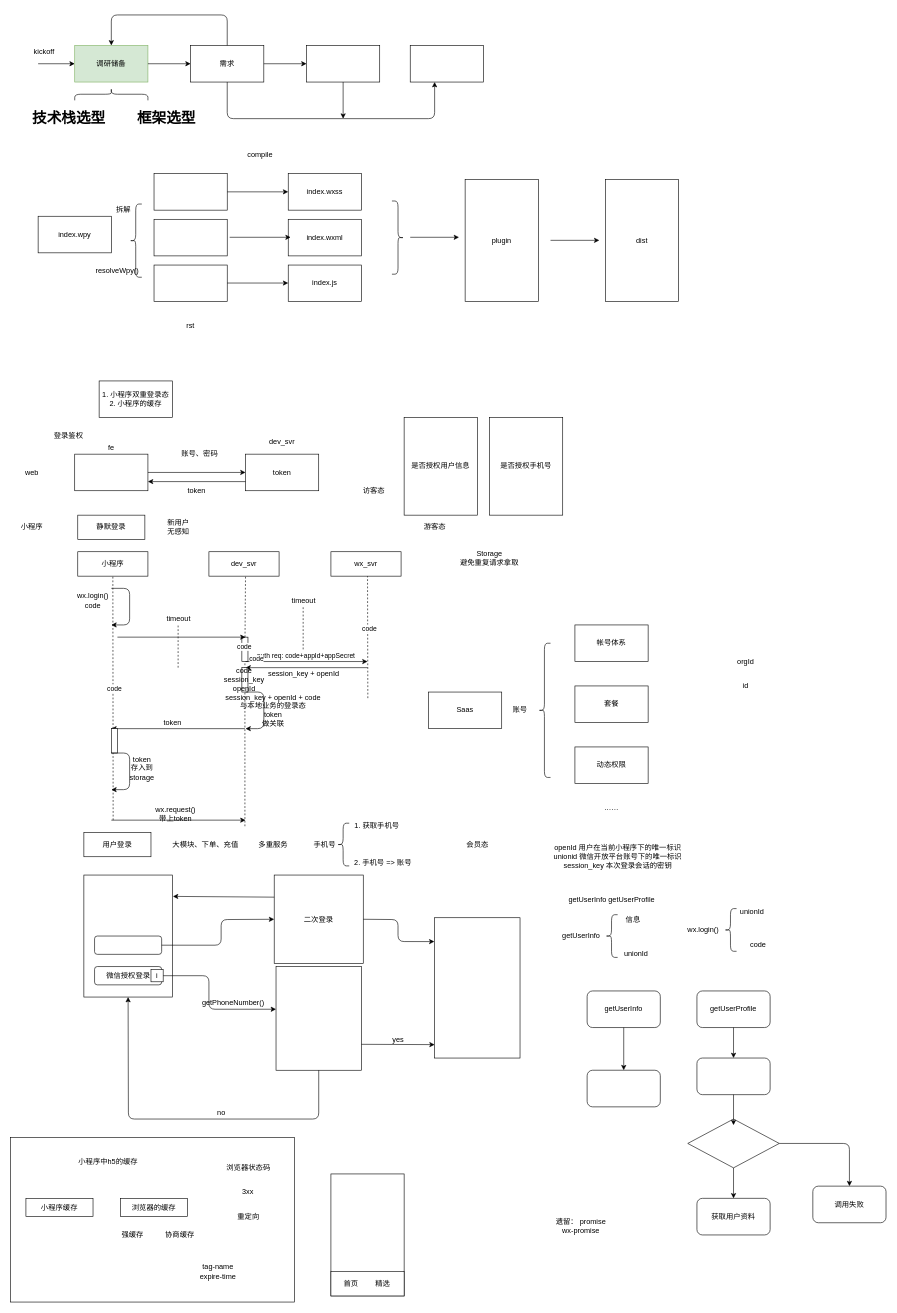
Some shapes in this 897 by 1313 pixel diagram are drawn without their labels. The centre of each missing label's shape, as x and y in pixels:
1. 匿名头像昵称 2. default的性别地区 3.加密后的身份标识: (x=623, y=1088)
script: (x=190, y=283)
style: (x=190, y=191)
template: (x=190, y=237)
实施开发: (x=446, y=63)
已登录: (x=477, y=987)
弹出个人信息授权: (x=733, y=1076)
技术架构: (x=343, y=63)
操作: (x=733, y=1143)
登录: (x=111, y=472)
确认是否授权手机号: (x=318, y=1018)
账号密码登录: (x=128, y=944)
